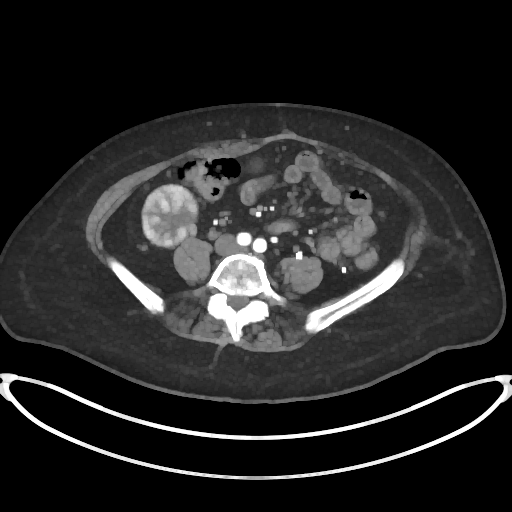Lesion: (139, 183, 204, 254)
